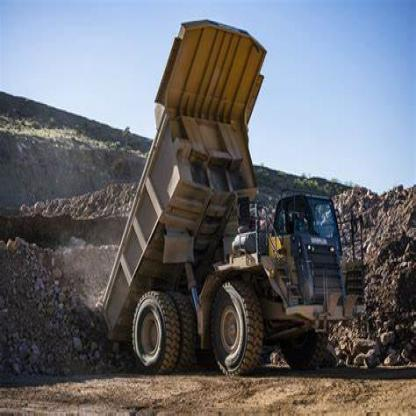dump_truck: (95, 9, 369, 382)
